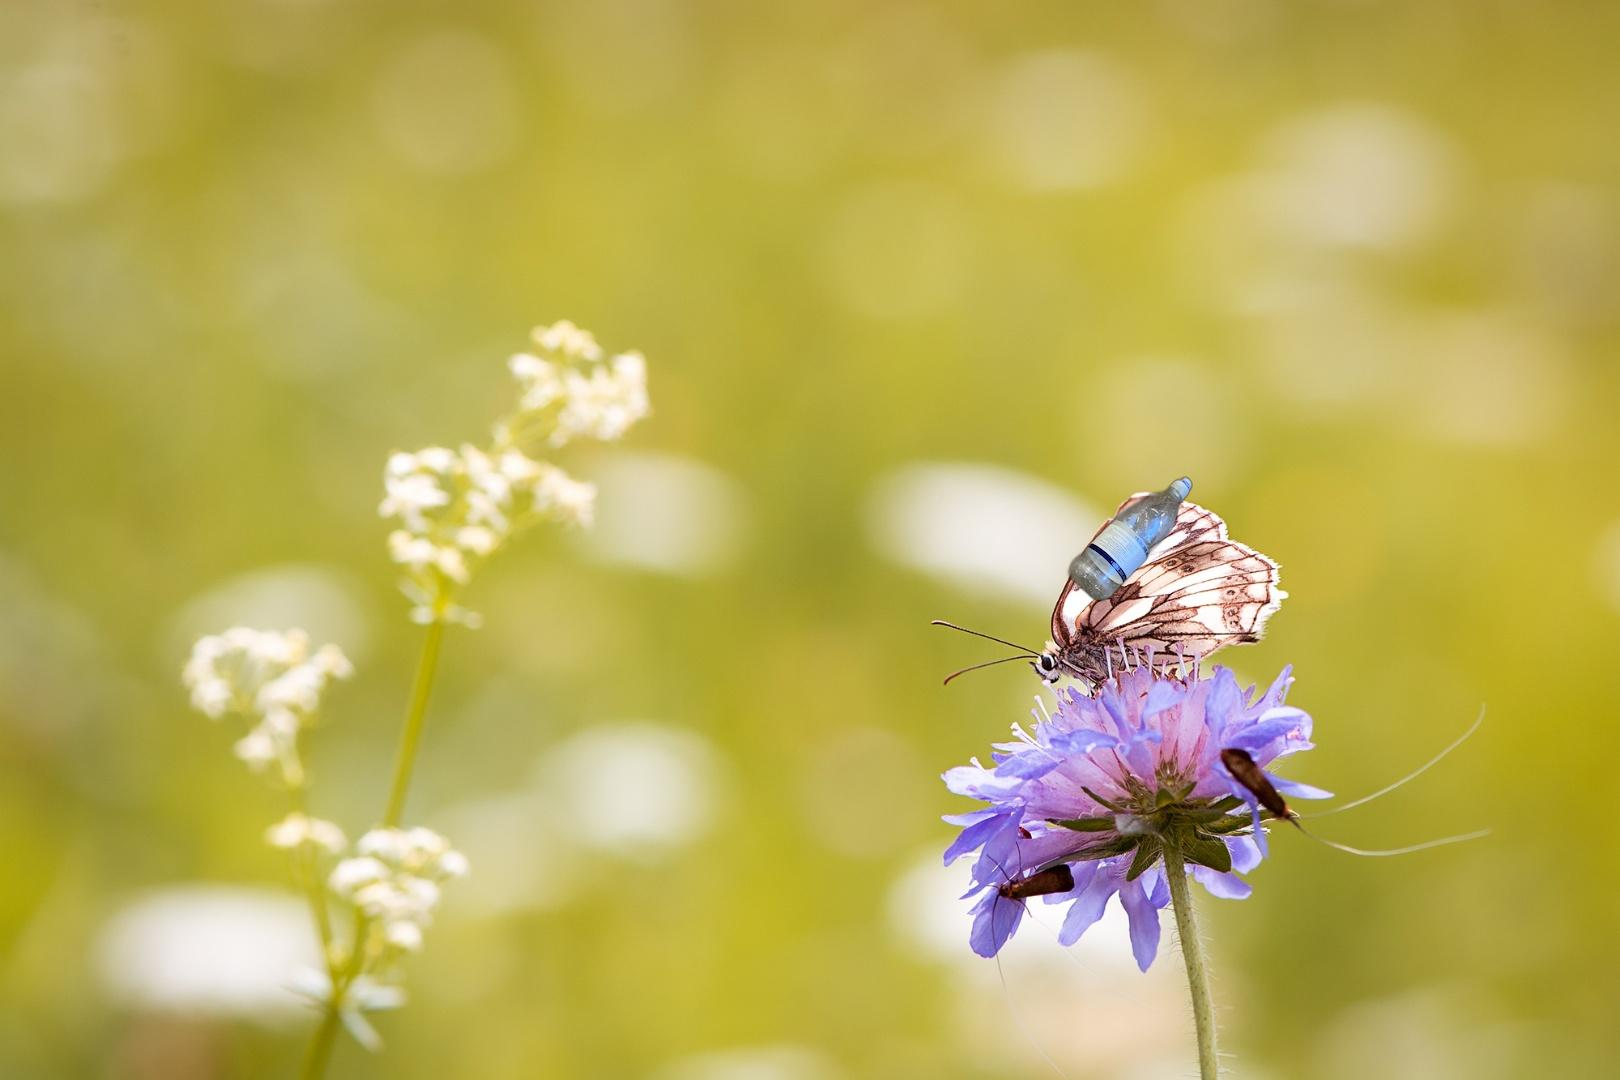plastic-bottles: (1066, 472, 1195, 606)
